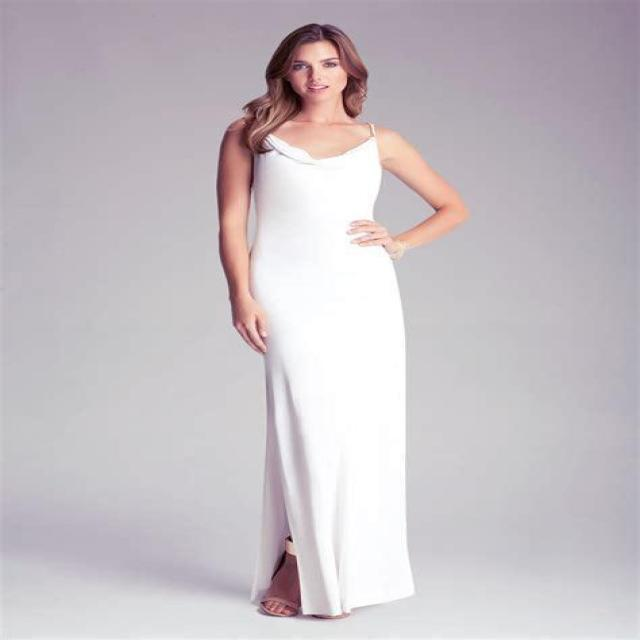dress: (248, 112, 417, 614)
